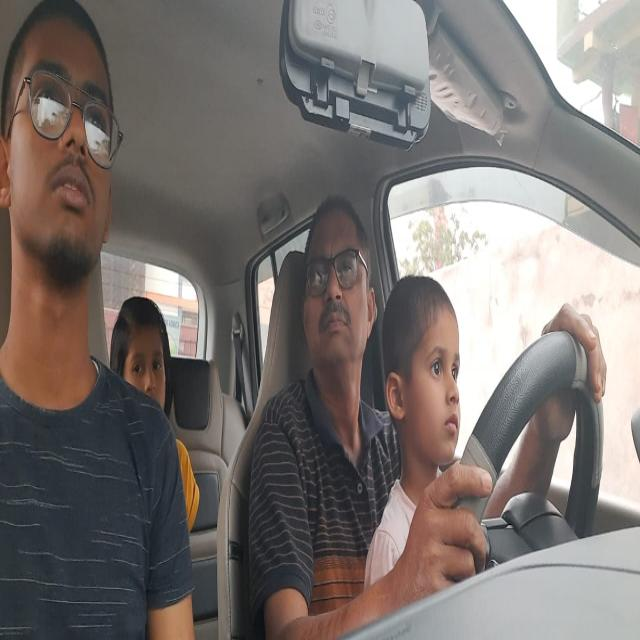child: (381, 271, 466, 483)
person: (0, 0, 127, 303), (299, 189, 379, 380), (112, 286, 171, 417)
